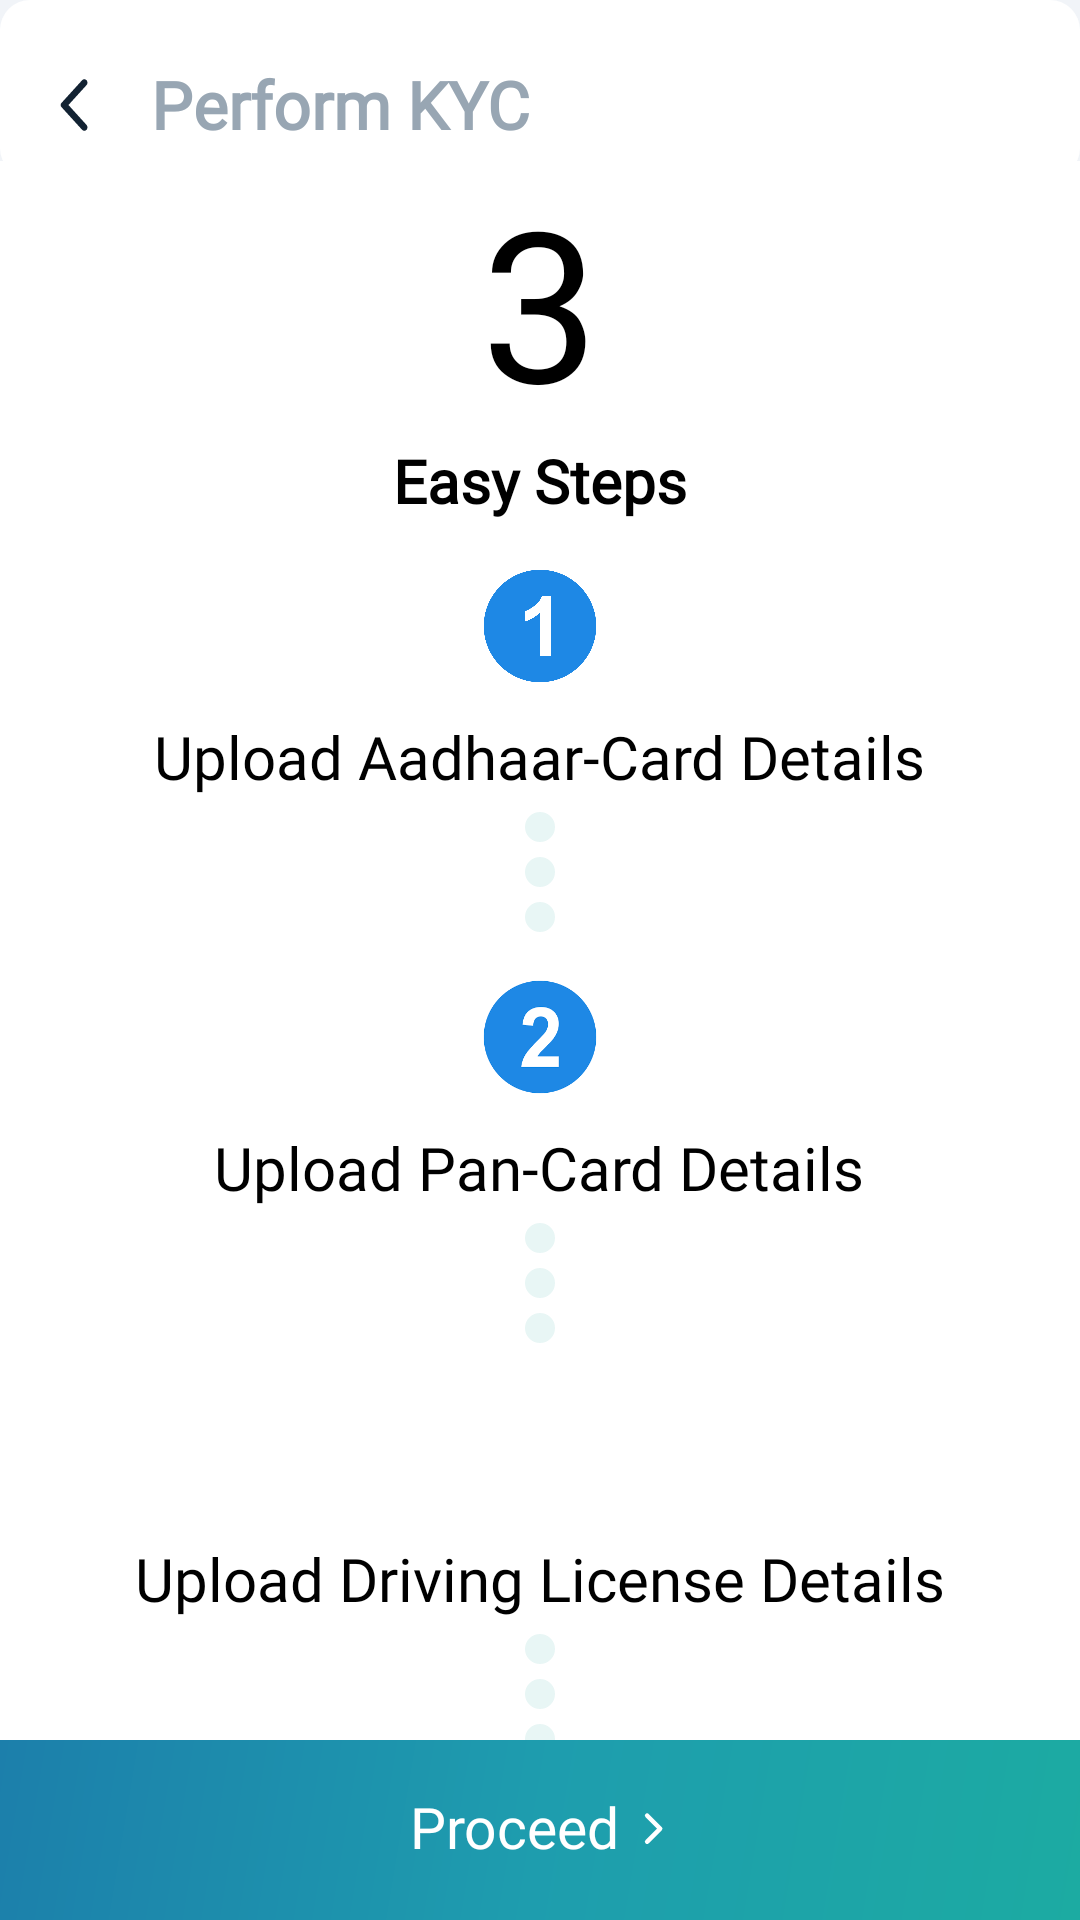

Screen size 1080*1920. Icon name, then its box in pixels as (x1, y1, x2, y2):
back: (60, 79, 88, 131)
